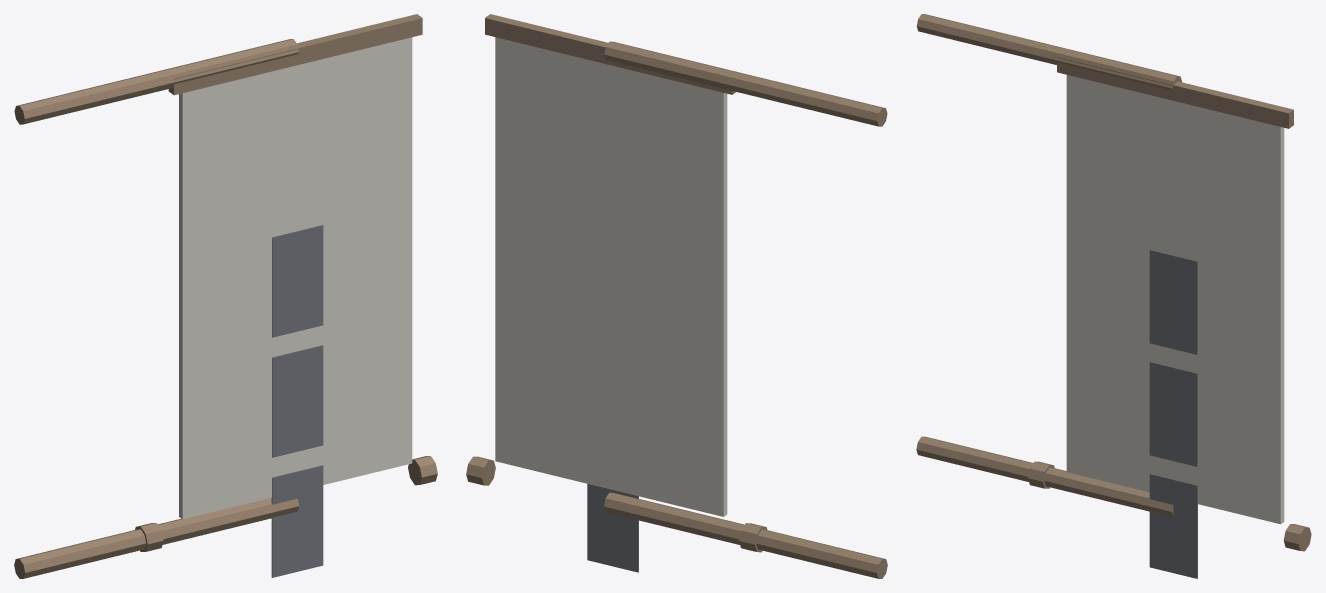
The model's file is martial-arts-dojo-and-fight-stages-hanging-scroll-753df67b__18062.glb.
3 renders of one model, left to right at view 1: azimuth 30°, elevation 25°; view 2: azimuth 150°, elevation 25°; view 3: azimuth 330°, elevation 25°, orthographic. The views are drawn at different scales.
Visible parts, largest first — view 1: hanging-scroll; view 2: hanging-scroll; view 3: hanging-scroll.
Boxes of the visible parts, box(x1,y1,x2,y2) form: hanging-scroll: box(14, 14, 437, 578); hanging-scroll: box(466, 14, 887, 578); hanging-scroll: box(916, 14, 1311, 578).
Size of the model in its own units: 1.29 by 1.59 by 0.0761.
